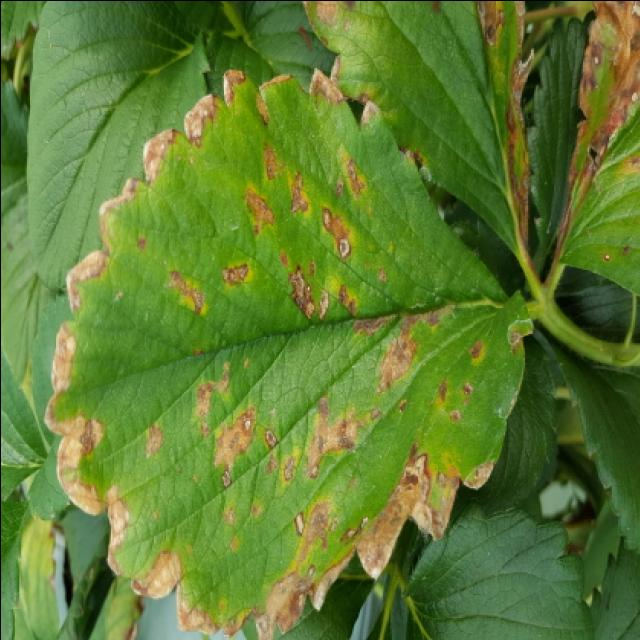Angular Leafspot: (42, 65, 536, 640), (302, 2, 535, 281), (547, 2, 638, 295)
